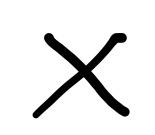mult: (33, 33, 129, 118)
